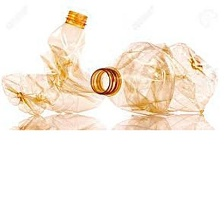bottle: (0, 4, 107, 117), (86, 32, 222, 118)
